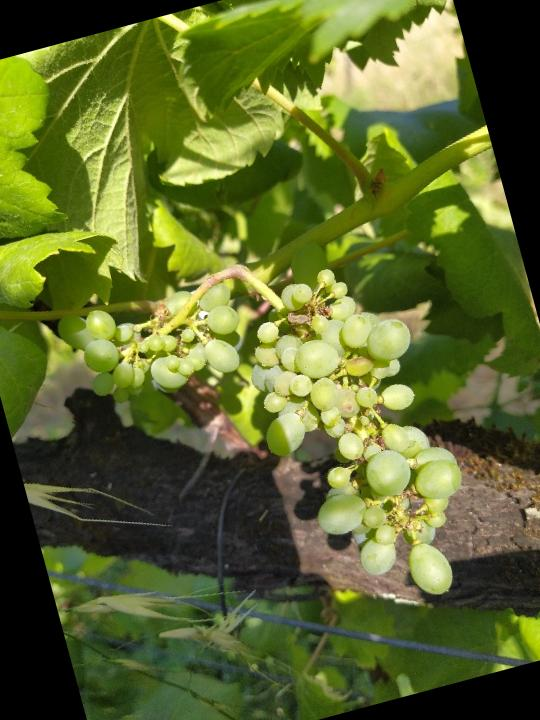grape: (51, 212, 500, 678)
